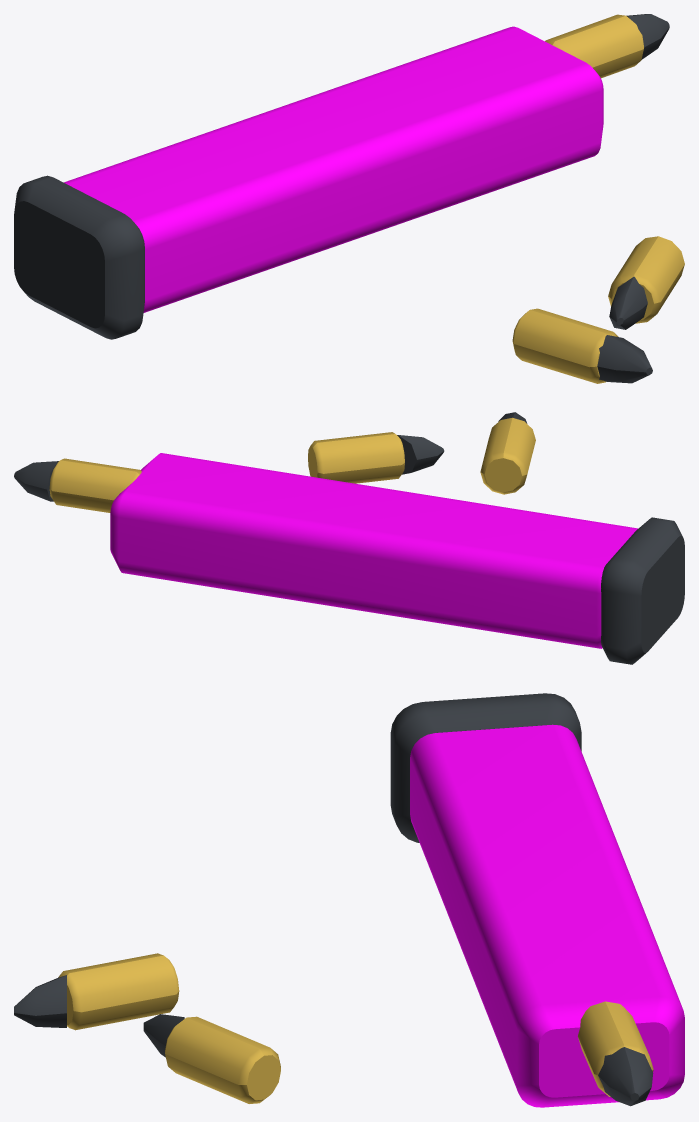
Rendered from objet_chargeur_pistolet.glb.
The picture shows the model from 3 angles, top to bottom: view 1: azimuth 30°, elevation 25°; view 2: azimuth 150°, elevation 25°; view 3: azimuth 270°, elevation 25°; orthographic projection. The views are drawn at different scales.
Parts seen in each view (by area): view 1: chargeur_teinte.006, chargeur_teinte_sombre.006, chargeur_laiton.006; view 2: chargeur_teinte.006, chargeur_teinte_sombre.006, chargeur_laiton.006; view 3: chargeur_teinte.006, chargeur_laiton.006, chargeur_teinte_sombre.006.
Boxes of the visible parts, x1,y1,x2,y2 form: chargeur_teinte.006: (64,26,603,312); chargeur_teinte_sombre.006: (14,14,669,383); chargeur_laiton.006: (512,14,684,383); chargeur_teinte.006: (110,453,638,648); chargeur_teinte_sombre.006: (14,412,684,664); chargeur_laiton.006: (49,417,535,512); chargeur_teinte.006: (410,724,684,1107); chargeur_laiton.006: (58,953,653,1103); chargeur_teinte_sombre.006: (14,693,653,1106).
Bounding box in the file's own units: 0.2327 × 0.0415 × 0.1775.
